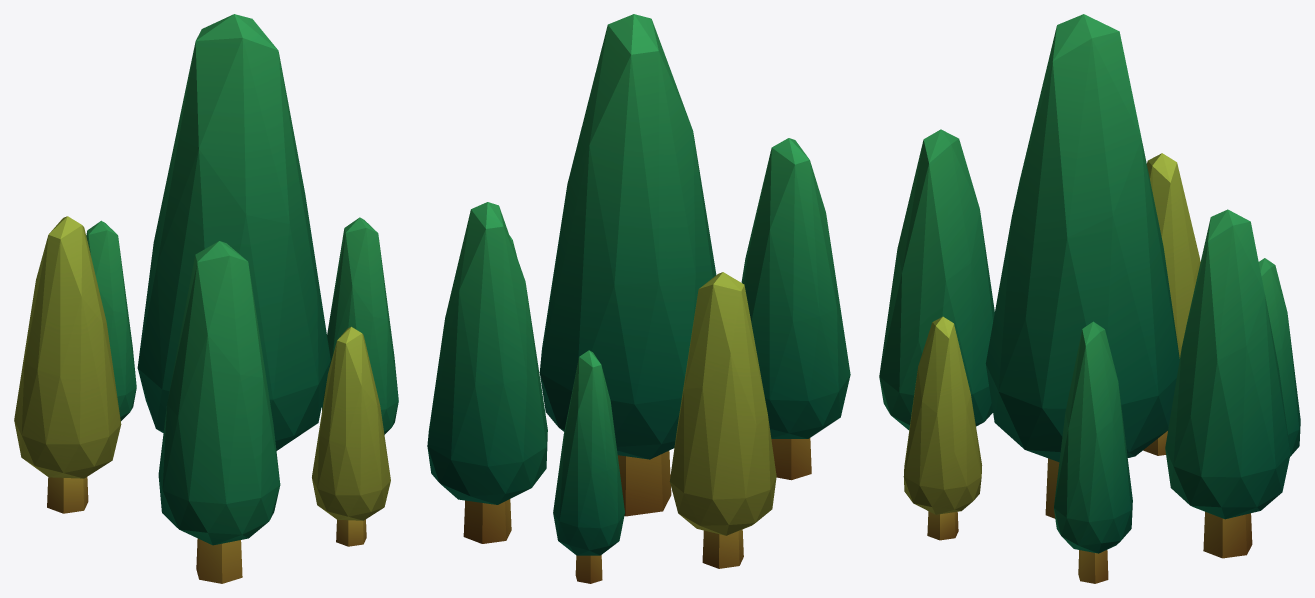
The model's file is treeTallBunch.fbx.
The picture shows the model from 3 angles, left to right: view 1: azimuth 30°, elevation 25°; view 2: azimuth 150°, elevation 25°; view 3: azimuth 270°, elevation 25°; orthographic projection. The views are drawn at different scales.
Parts seen in each view (by area): view 1: Cylinder.003, Icosphere.007, Icosphere.005, Icosphere.006, Icosphere.008, Icosphere.009; view 2: Cylinder.003, Icosphere.001, Icosphere.007, Icosphere.005, Icosphere.009; view 3: Cylinder.003, Icosphere.001, Icosphere.007, Icosphere.008, Icosphere.006, Icosphere.005, Icosphere.009.
Part boxes in pixels (x1=…): Cylinder.003: x1=137, y1=14, x2=330, y2=450; Icosphere.007: x1=158, y1=241, x2=280, y2=583; Icosphere.005: x1=14, y1=216, x2=121, y2=513; Icosphere.006: x1=312, y1=326, x2=390, y2=546; Icosphere.008: x1=321, y1=217, x2=398, y2=434; Icosphere.009: x1=86, y1=220, x2=136, y2=420; Cylinder.003: x1=539, y1=14, x2=716, y2=516; Icosphere.001: x1=427, y1=202, x2=547, y2=543; Icosphere.007: x1=741, y1=138, x2=850, y2=480; Icosphere.005: x1=669, y1=272, x2=776, y2=568; Icosphere.009: x1=553, y1=350, x2=624, y2=583; Cylinder.003: x1=985, y1=14, x2=1179, y2=518; Icosphere.001: x1=1165, y1=209, x2=1290, y2=558; Icosphere.007: x1=879, y1=129, x2=994, y2=430; Icosphere.008: x1=1054, y1=321, x2=1132, y2=583; Icosphere.006: x1=903, y1=316, x2=982, y2=540; Icosphere.005: x1=1143, y1=153, x2=1200, y2=455; Icosphere.009: x1=1258, y1=258, x2=1300, y2=456.
Bounding box in the file's own units: 315 × 435 × 333.
